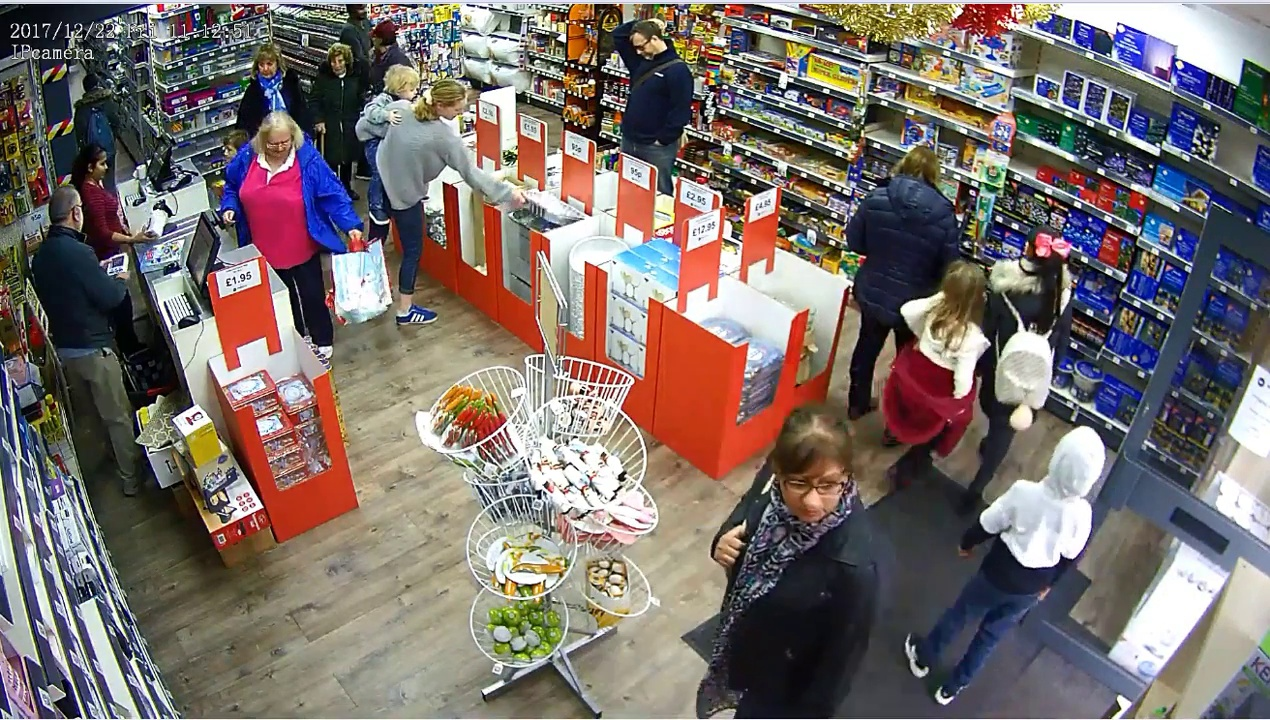face: (786, 454, 836, 524), (264, 123, 295, 163), (634, 21, 657, 63), (256, 52, 276, 79), (326, 49, 348, 73), (85, 153, 106, 177)
